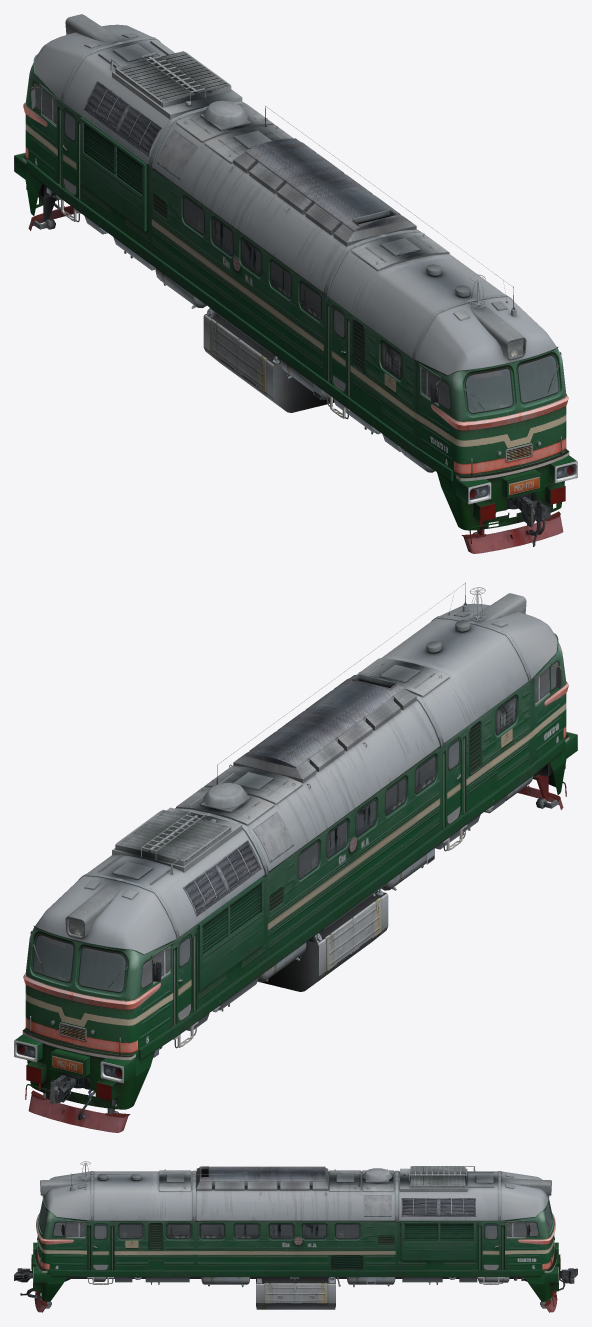
File: 绿皮火车车头.fbx
3 views of the same model, one above another, from view 1: azimuth 30°, elevation 25°; view 2: azimuth 150°, elevation 25°; view 3: azimuth 270°, elevation 25° (orthographic). The views are drawn at different scales.
Visible parts, largest first — view 1: 绿皮火车车头; view 2: 绿皮火车车头; view 3: 绿皮火车车头.
Boxes of the visible parts, x1,y1,x2,y2 form: 绿皮火车车头: (14, 14, 577, 553); 绿皮火车车头: (14, 582, 577, 1132); 绿皮火车车头: (14, 1161, 577, 1312).
Size of the model in its own units: 332 by 572 by 2145.
